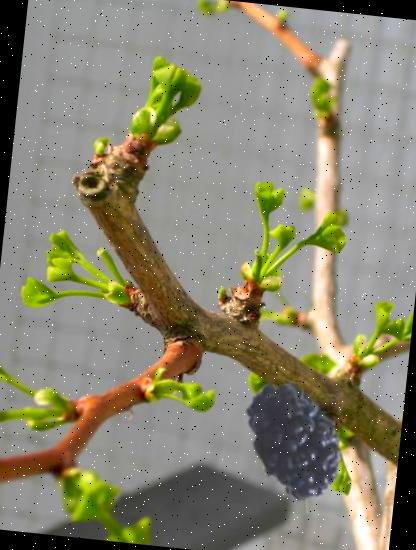Mulberry: (235, 363, 386, 514)
